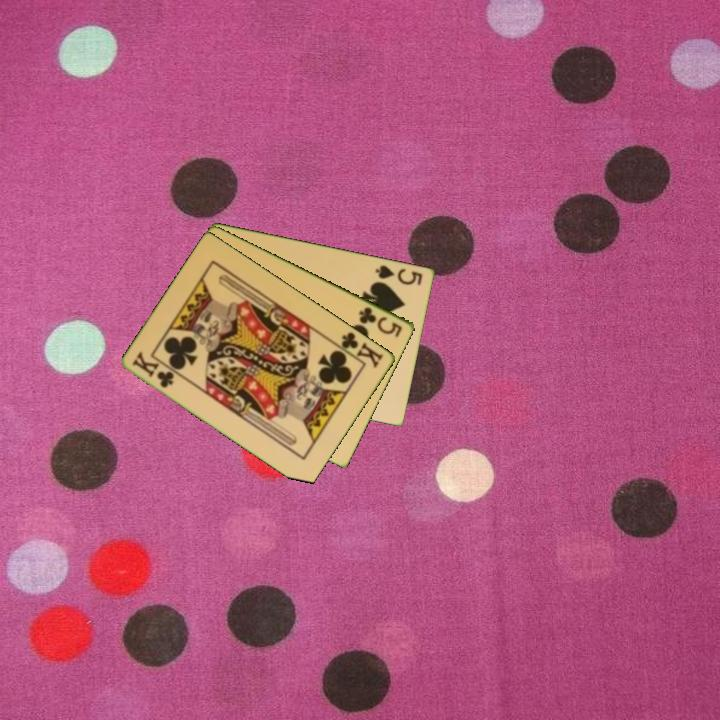5c: (355, 303, 406, 340)
5s: (372, 261, 426, 288)
Kc: (332, 328, 387, 371), (129, 348, 178, 391)
